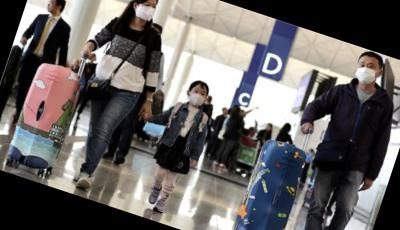with_mask: (353, 58, 382, 89), (188, 86, 209, 109)
